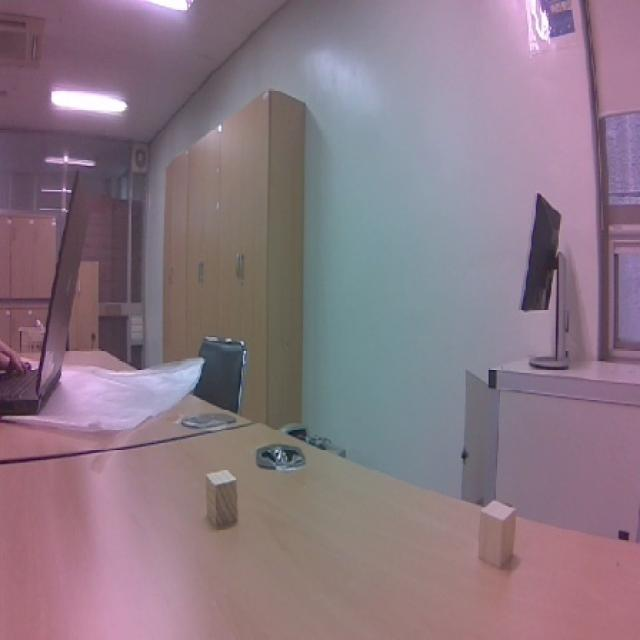obstacle: (196, 459, 252, 541), (472, 494, 523, 570)
